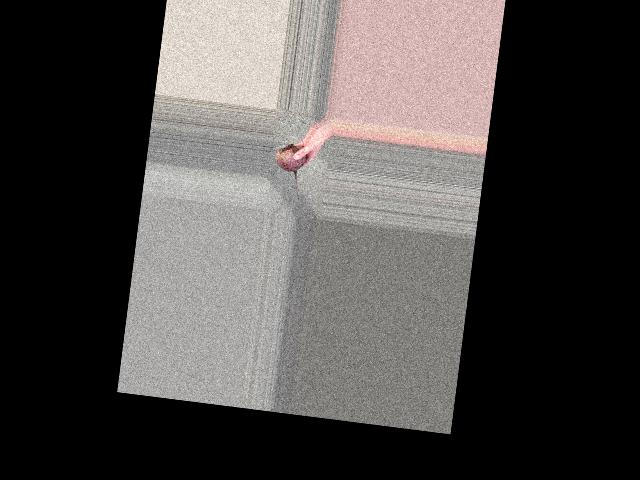beet: (270, 142, 306, 199)
